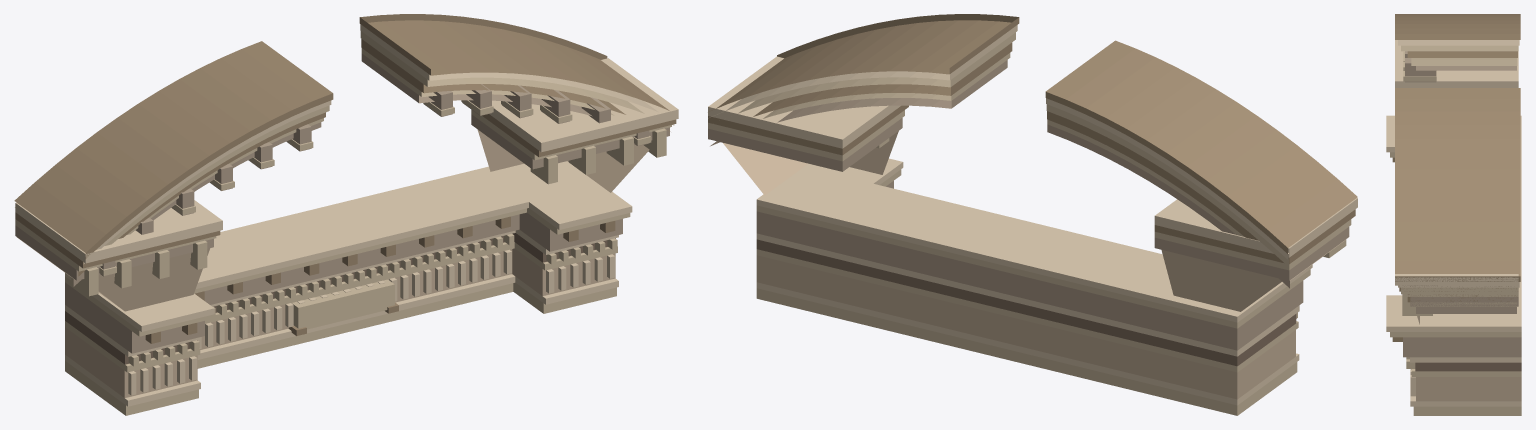
The model's file is jingan-632-no50-broken-pediment-lod.glb.
3 renders of one model, left to right at view 1: azimuth 30°, elevation 25°; view 2: azimuth 150°, elevation 25°; view 3: azimuth 270°, elevation 25°, orthographic. The views are drawn at different scales.
Parts seen in each view (by area): view 1: 延安中路632弄50号住宅西门弧形断山花; view 2: 延安中路632弄50号住宅西门弧形断山花; view 3: 延安中路632弄50号住宅西门弧形断山花.
Part boxes in pixels (<box>): 延安中路632弄50号住宅西门弧形断山花: <box>14,14,678,415</box>; 延安中路632弄50号住宅西门弧形断山花: <box>708,14,1357,415</box>; 延安中路632弄50号住宅西门弧形断山花: <box>1386,14,1521,415</box>.
Size of the model in its own units: 4.06 by 1.85 by 0.909.
